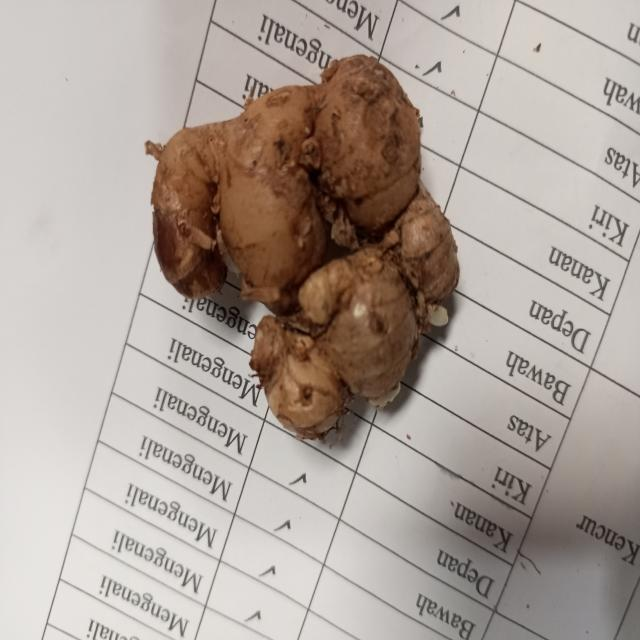ginger: (161, 62, 447, 427)
